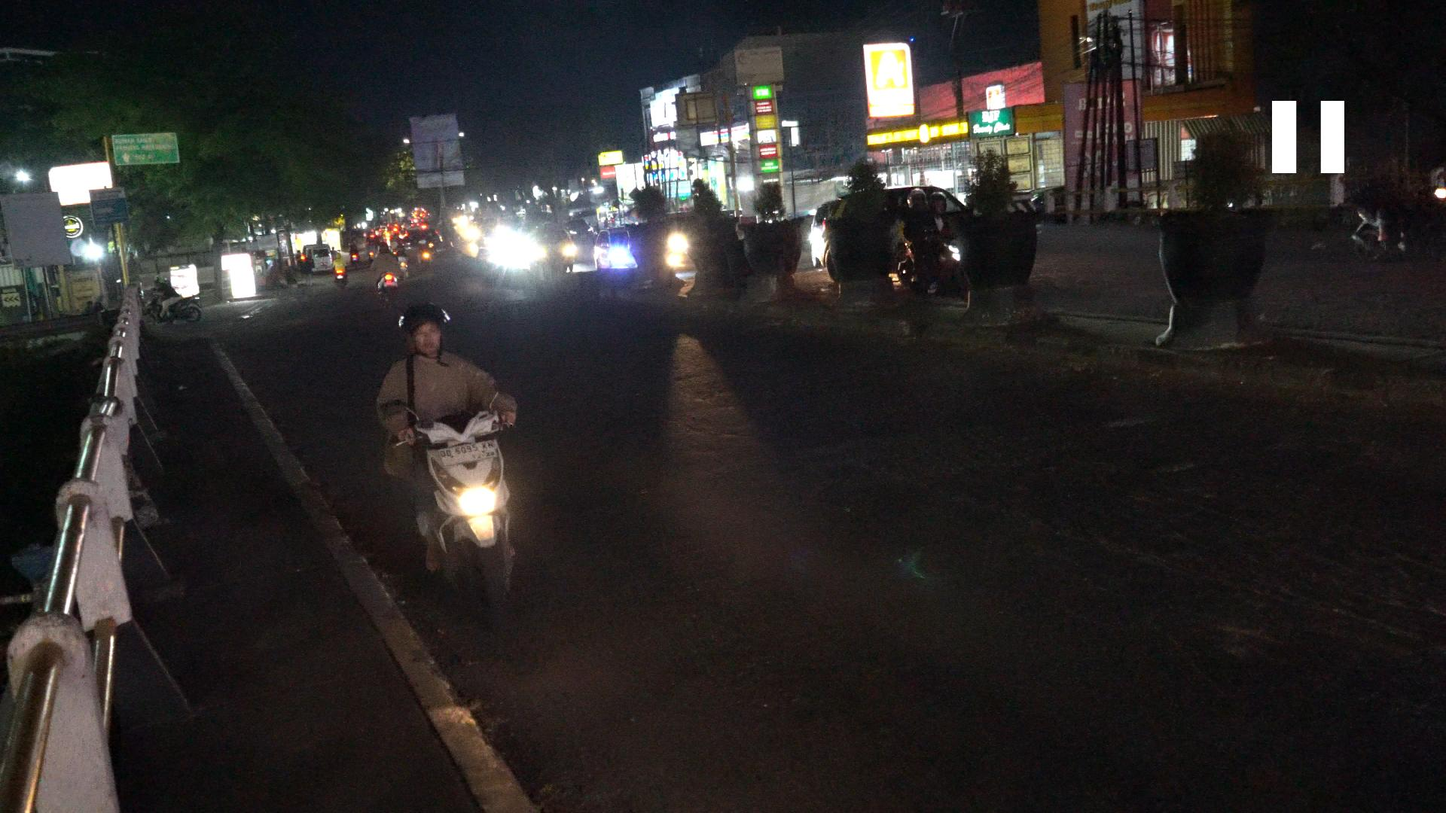number-plate: (435, 436, 501, 463)
